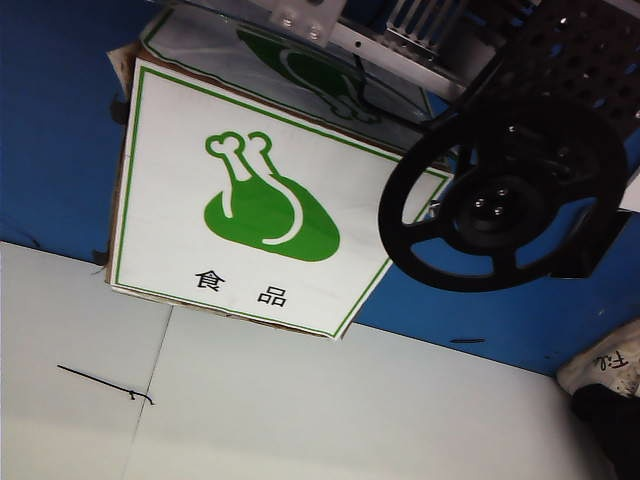Cube_food: (182, 119, 347, 321)
